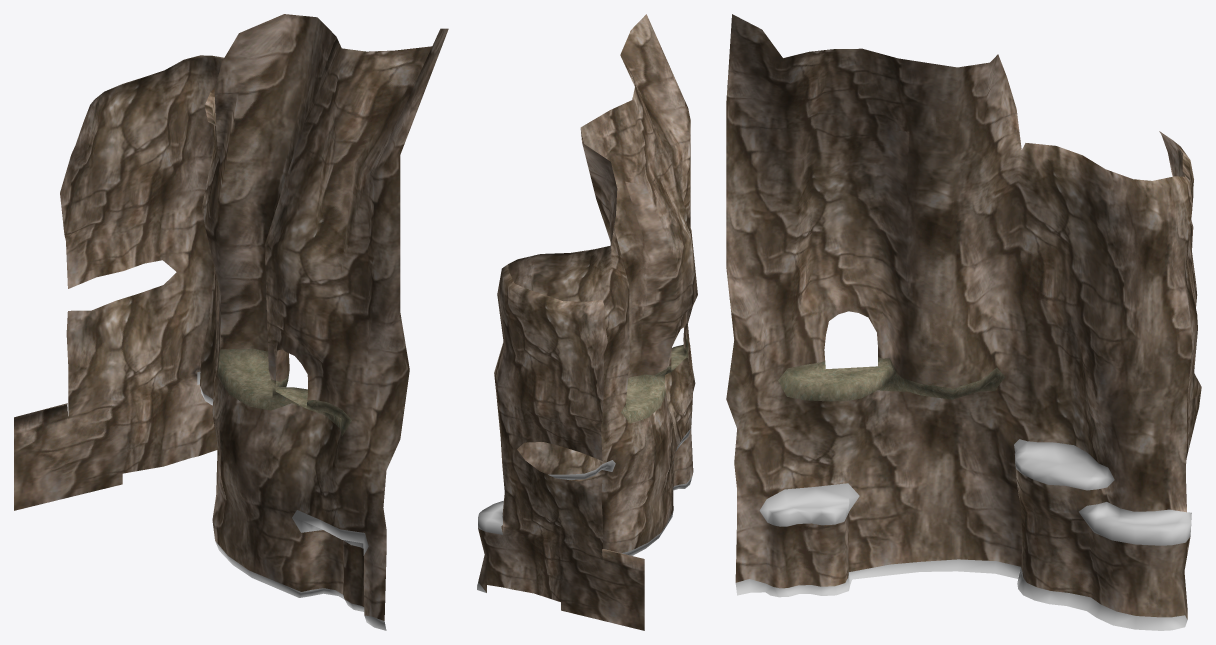
File: EKH_ENTRANCE_PS_EN_WALL_CHUNK471__GX.obj
3 renders of one model, left to right at view 1: azimuth 30°, elevation 25°; view 2: azimuth 150°, elevation 25°; view 3: azimuth 270°, elevation 25°, orthographic. The views are drawn at different scales.
Parts seen in each view (by area): view 1: ll_Chunk471__GX; view 2: ll_Chunk471__GX; view 3: ll_Chunk471__GX.
Boxes of the visible parts, box(x1,y1,x2,y2) form: ll_Chunk471__GX: box(14, 14, 448, 630); ll_Chunk471__GX: box(477, 14, 697, 630); ll_Chunk471__GX: box(726, 14, 1201, 630).
Size of the model in its own units: 946 by 2359 by 1661.
